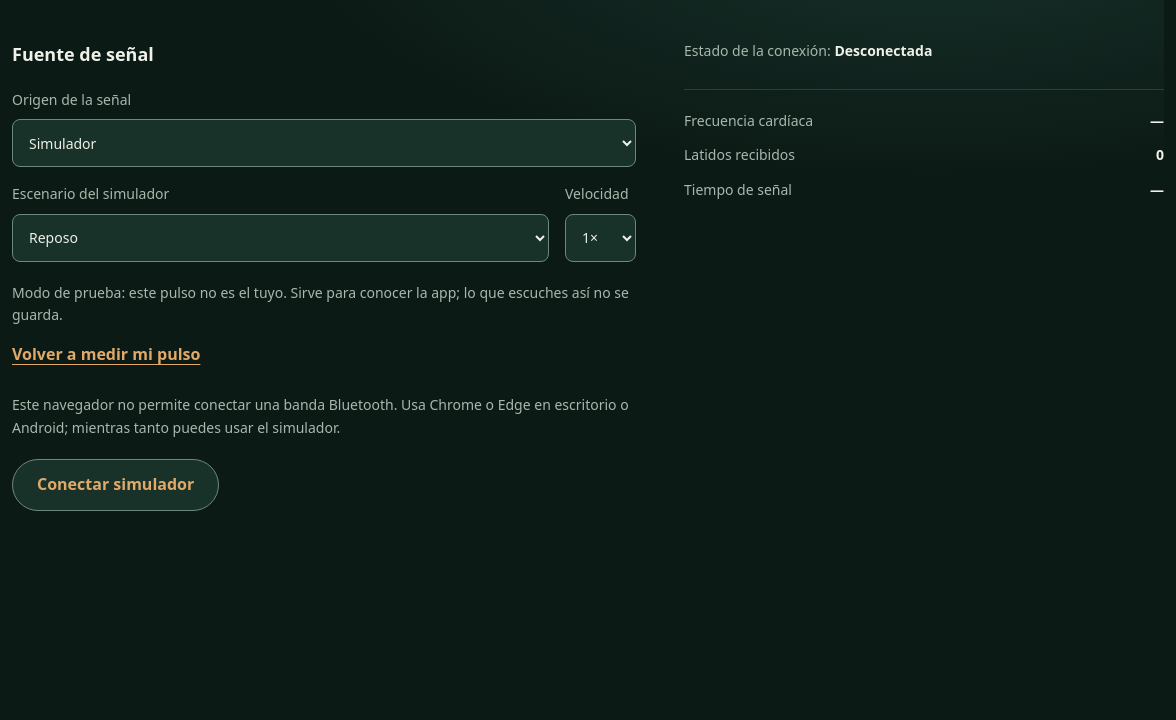
Scenario: AcquisitionPanel › connects from the keyboard with the chosen scenario and speed
This screenshot has width=1176, height=720.
Select "Activación" in the dropdown labelled "Escenario del simulador" at (280, 238), box 12,214 -> 549,262
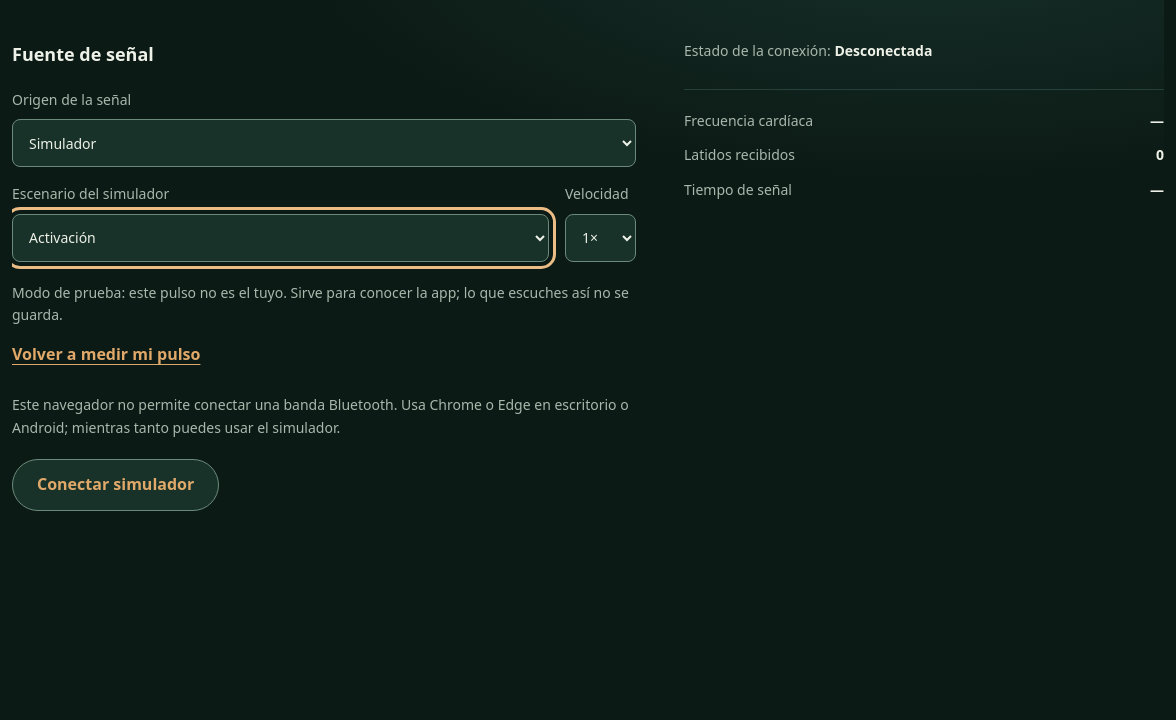
Select "10×" in the dropdown labelled "Velocidad" at (600, 238), box 565,214 -> 636,262
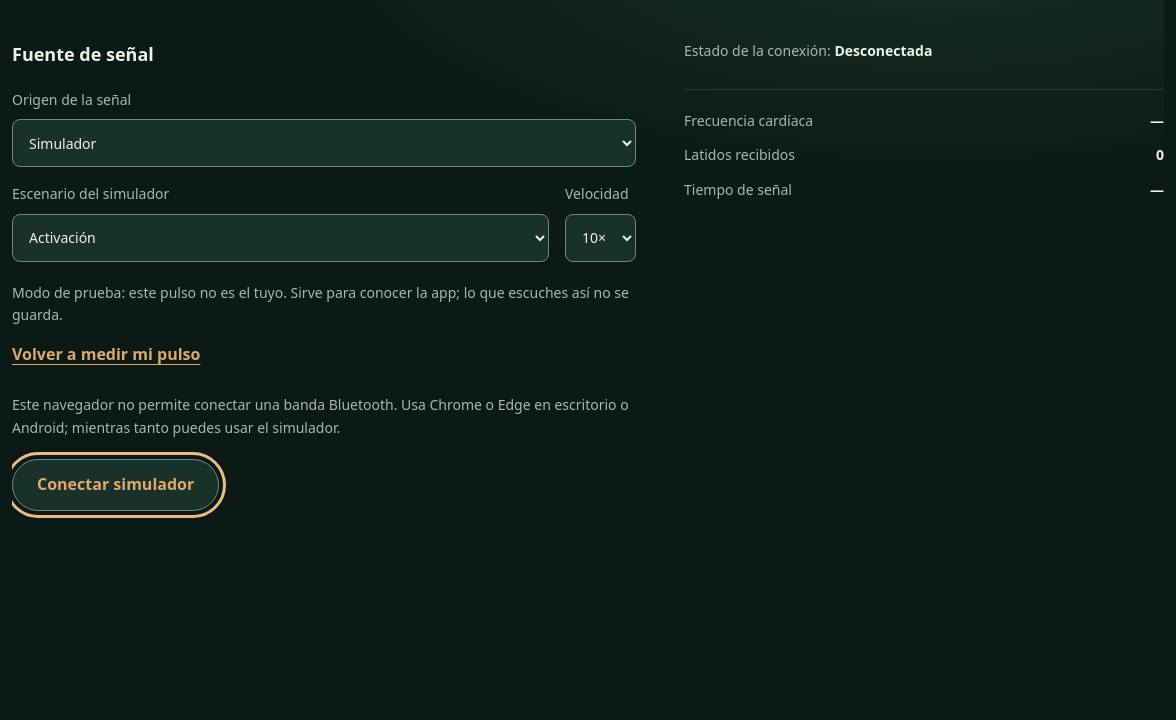
Press Enter
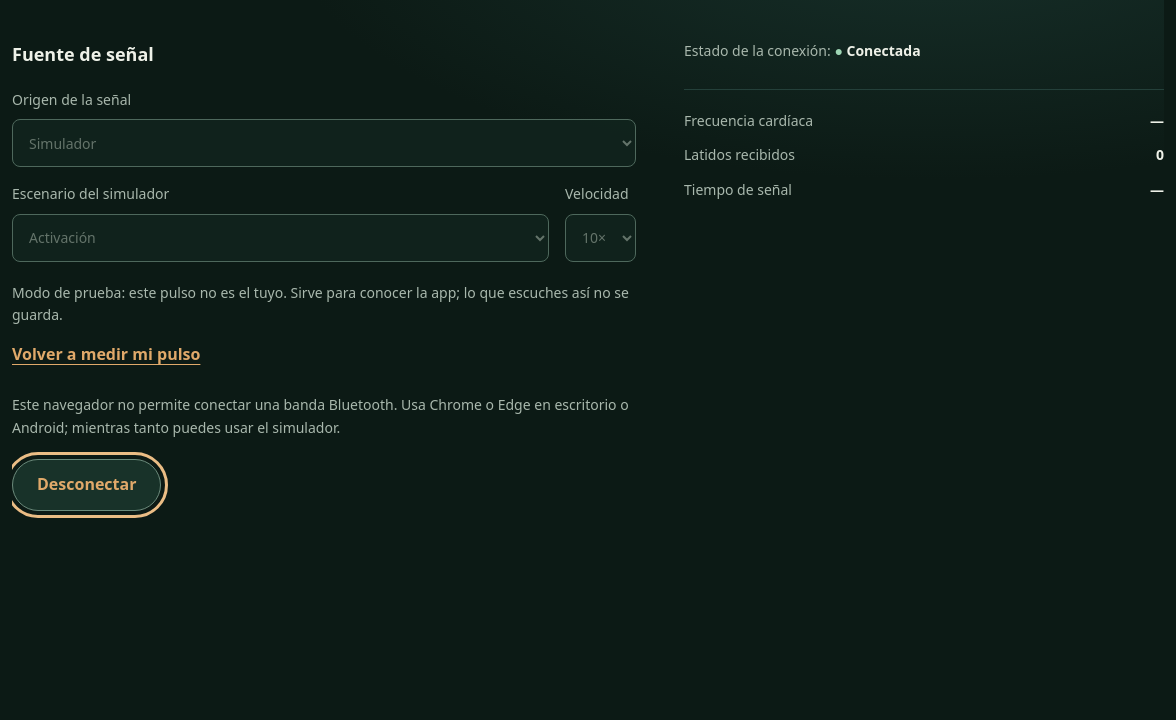
Now the dropdown labelled "Escenario del simulador" is disabled, box 12,214 -> 549,262
Now the button "Desconectar" is shown, box 12,459 -> 162,511
